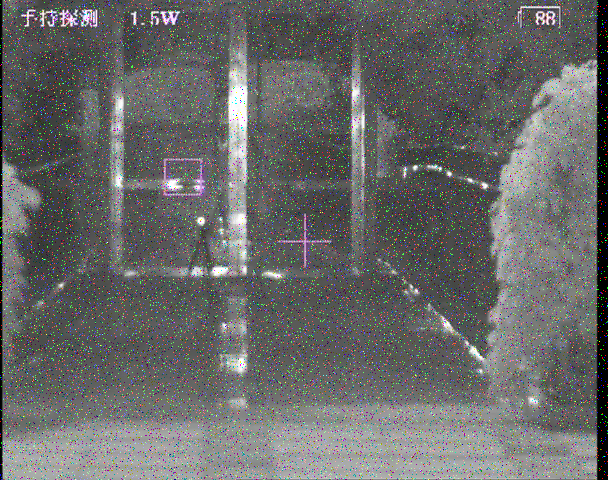my: (195, 215, 205, 227)
